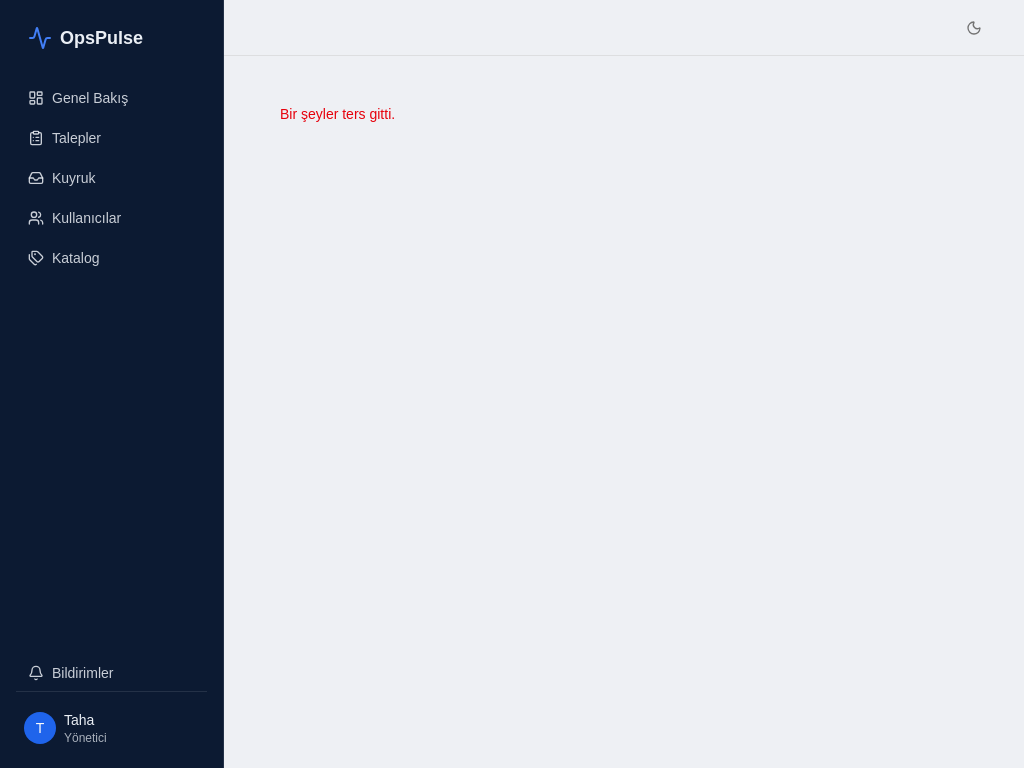
Test case: AppShell › when the routed content throws › shows the fallback message while keeping the sidebar rendered
Expected: the text "Bir şeyler ters gitti." is shown, [280,106,395,122]
Expected: the link "Talepler" is shown, [28,130,101,146]
Click the button "T Taha Yönetici" at (112, 728), box [16,704,207,752]
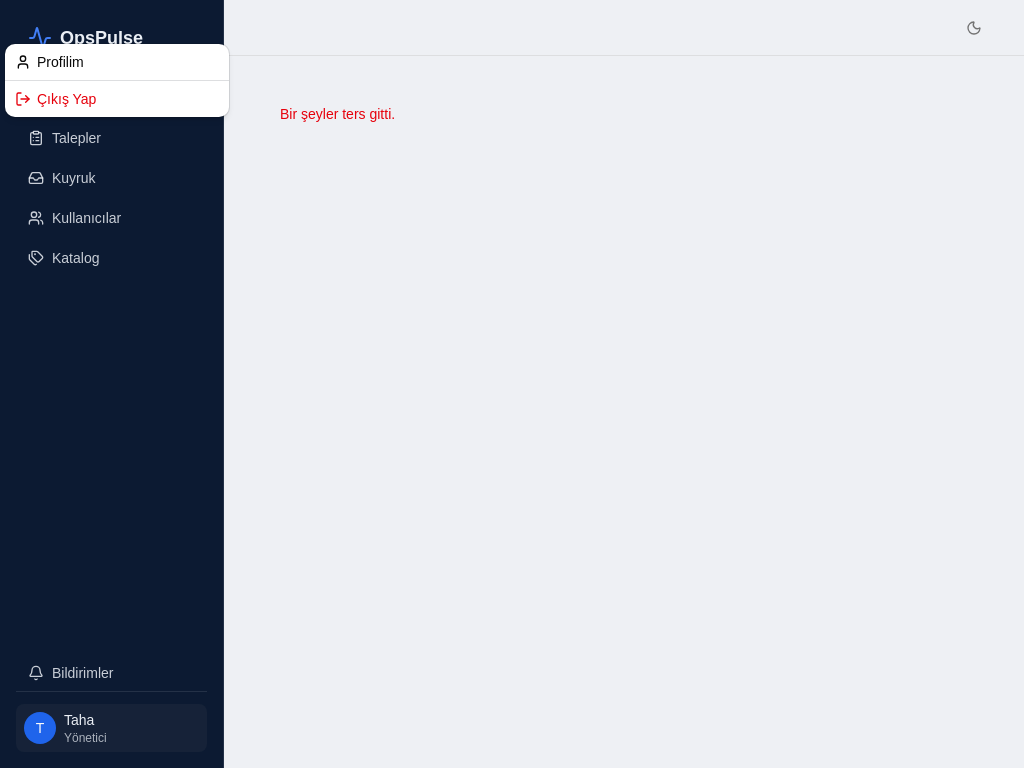
Expected: the menu item "Çıkış Yap" is shown, [15,91,96,107]
